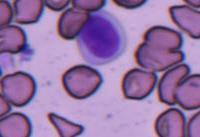L: (76, 10, 125, 64)
